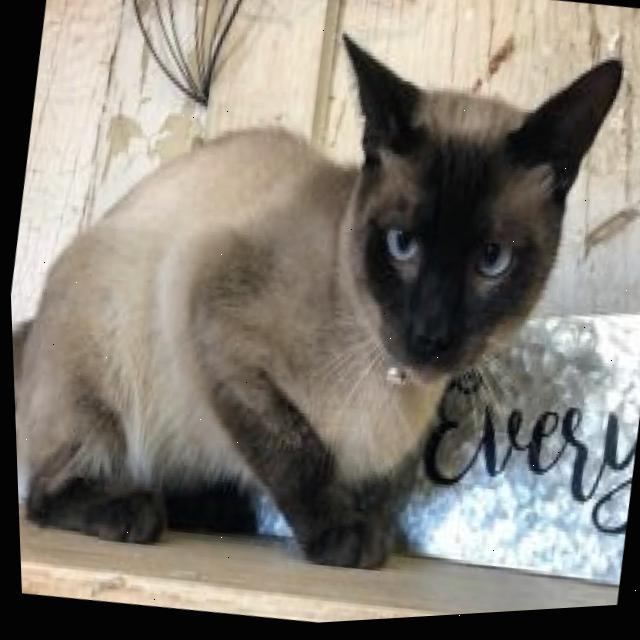Siamese: (0, 0, 640, 627)
